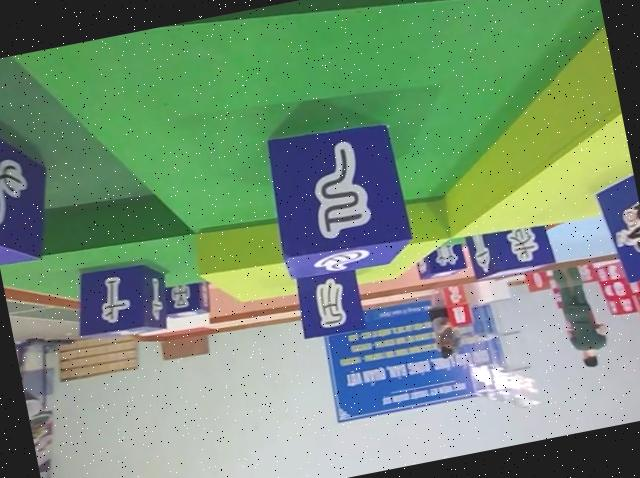R1 Blue: (590, 154, 640, 289)
R2 Fake Blue: (260, 111, 417, 284), (290, 264, 365, 342), (464, 222, 555, 284)
R2 Real Blue: (0, 91, 61, 267), (68, 254, 174, 345), (162, 277, 216, 319), (413, 242, 468, 283)
